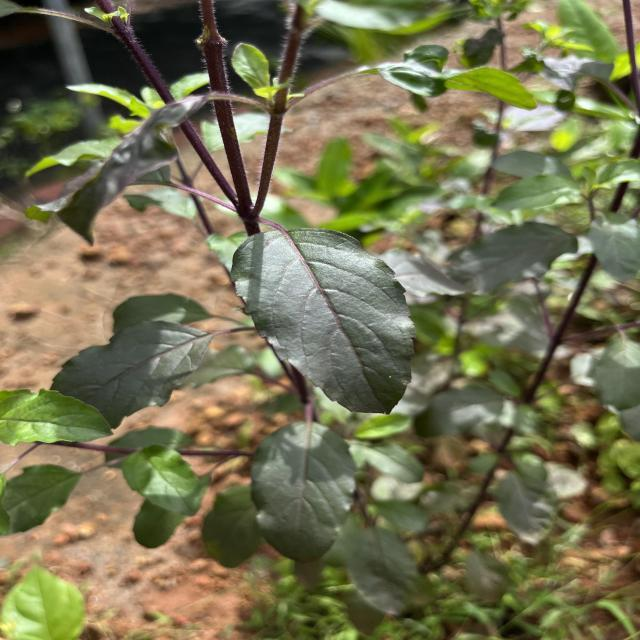Ocimum tenuiflorum: (228, 226, 418, 416)
